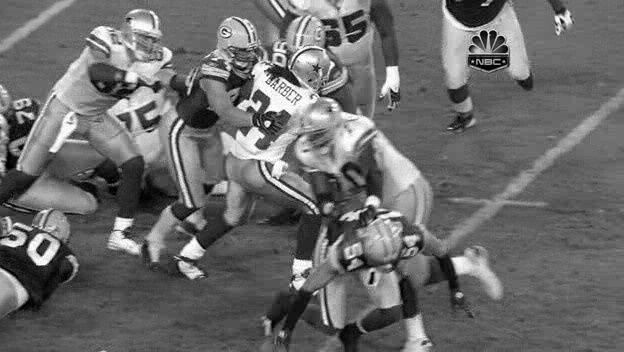person: (294, 48, 329, 93), (293, 48, 328, 93), (295, 48, 330, 93), (294, 47, 329, 92), (294, 49, 329, 94)
target_negative: (23, 148, 572, 226), (313, 270, 543, 345), (140, 28, 253, 154), (167, 167, 261, 244), (388, 63, 437, 201), (318, 326, 335, 348)
